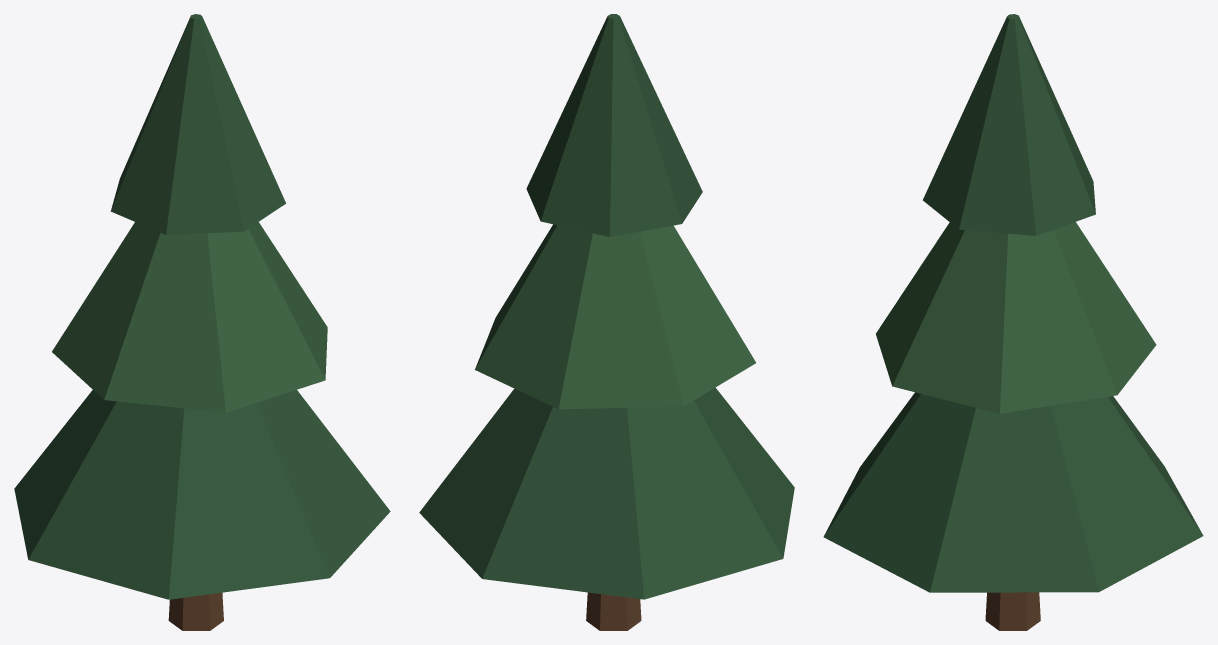
The model's file is tree_conifer_small.glb.
3 renders of one model, left to right at view 1: azimuth 30°, elevation 25°; view 2: azimuth 150°, elevation 25°; view 3: azimuth 270°, elevation 25°, orthographic.
Visible parts, largest first — view 1: tree_conifer_small.001; view 2: tree_conifer_small.001; view 3: tree_conifer_small.001.
Part boxes in pixels (left/top/right/bottom): tree_conifer_small.001: left=14, top=14, right=390, bottom=630; tree_conifer_small.001: left=419, top=14, right=794, bottom=630; tree_conifer_small.001: left=823, top=14, right=1203, bottom=630.
Bounding box in the file's own units: 1.77 × 3.18 × 1.81.
1 material, 1 textured.
